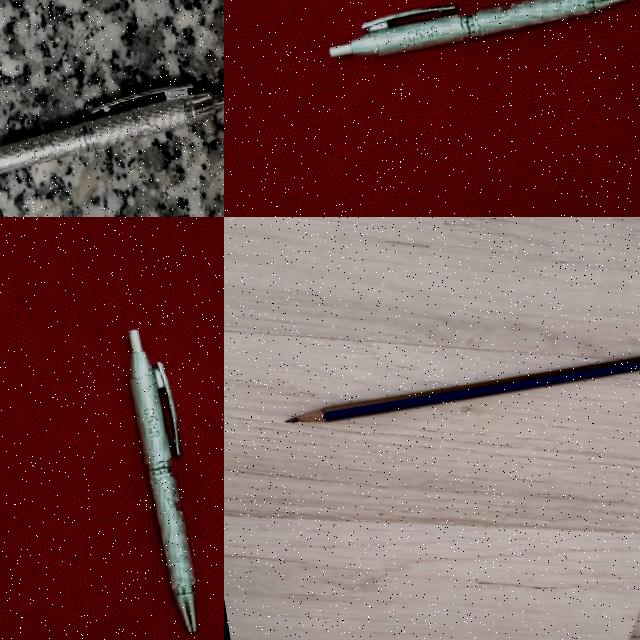pencil: (287, 357, 639, 422)
signature pen: (128, 329, 197, 632), (0, 85, 223, 174), (330, 0, 629, 57)
